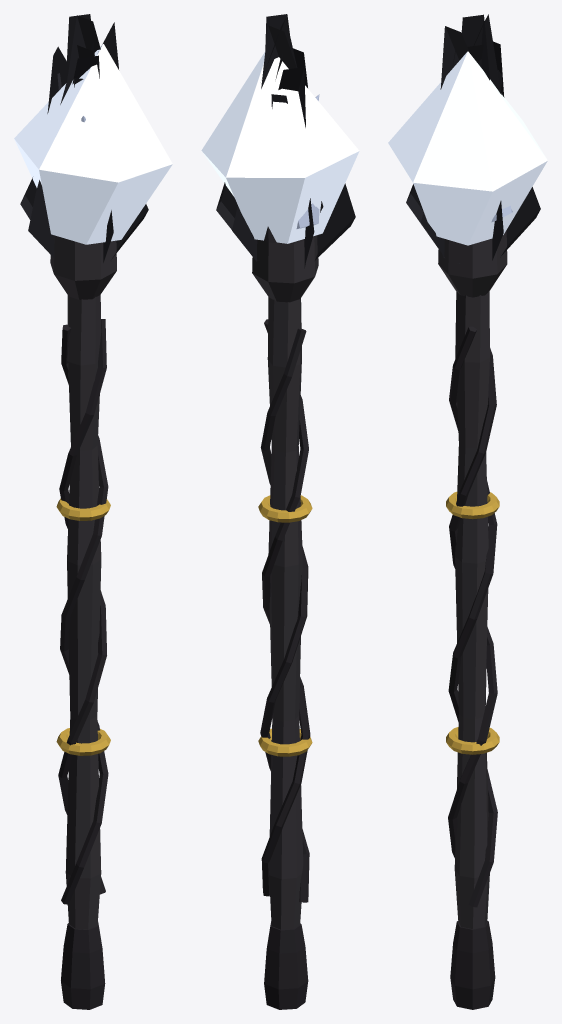
File: staff_duskclaw.glb
The picture shows the model from 3 angles, left to right: view 1: azimuth 30°, elevation 25°; view 2: azimuth 150°, elevation 25°; view 3: azimuth 270°, elevation 25°; orthographic projection.
Visible parts, largest first — view 1: Dk_Crystal, Dk_Shaft, Dk_Wrap1, Dk_Wrap0, Dk_Butt, Dk_Neck, Dk_Claw3, Dk_Claw5, Dk_Claw0, Dk_Gold0, Dk_Claw2, Dk_Gold1 (+2 smaller); view 2: Dk_Crystal, Dk_Shaft, Dk_Wrap1, Dk_Wrap0, Dk_Neck, Dk_Butt, Dk_Claw3, Dk_Claw4, Dk_Claw0, Dk_Claw5, Dk_Gold1, Dk_Gold0 (+2 smaller); view 3: Dk_Crystal, Dk_Shaft, Dk_Wrap0, Dk_Wrap1, Dk_Butt, Dk_Neck, Dk_Claw0, Dk_Claw4, Dk_Claw1, Dk_Claw2, Dk_Gold0, Dk_Gold1 (+1 smaller).
Part boxes in pixels (x1,y1,x2,y2): Dk_Crystal: (14, 44, 172, 244); Dk_Shaft: (65, 295, 101, 929); Dk_Wrap1: (60, 324, 108, 904); Dk_Wrap0: (58, 319, 106, 894); Dk_Butt: (61, 922, 105, 1009); Dk_Neck: (50, 235, 116, 299); Dk_Claw3: (28, 45, 93, 257); Dk_Claw5: (47, 46, 148, 259); Dk_Claw0: (47, 15, 100, 240); Dk_Gold0: (56, 728, 110, 755); Dk_Claw2: (20, 22, 123, 261); Dk_Gold1: (56, 498, 110, 520); Dk_Crystal: (201, 51, 359, 243); Dk_Shaft: (267, 297, 303, 929); Dk_Wrap1: (260, 328, 309, 902); Dk_Wrap0: (261, 319, 310, 896); Dk_Neck: (252, 226, 318, 302); Dk_Butt: (264, 921, 308, 1009); Dk_Claw3: (275, 52, 355, 260); Dk_Claw4: (246, 25, 296, 260); Dk_Claw0: (216, 18, 321, 247); Dk_Claw5: (278, 67, 309, 268); Dk_Gold1: (258, 495, 312, 522); Dk_Gold0: (258, 728, 312, 756); Dk_Crystal: (388, 51, 547, 245); Dk_Shaft: (454, 291, 489, 928); Dk_Wrap0: (448, 326, 497, 907); Dk_Wrap1: (448, 348, 497, 857); Dk_Butt: (450, 921, 495, 1009); Dk_Neck: (438, 230, 507, 297); Dk_Claw0: (461, 14, 503, 260); Dk_Claw4: (406, 14, 501, 255); Dk_Claw1: (452, 50, 540, 257); Dk_Claw2: (440, 26, 469, 263); Dk_Gold0: (446, 727, 499, 754); Dk_Gold1: (446, 491, 499, 519).
Bounding box in the file's own units: 0.3247 × 2.26 × 0.3323.
